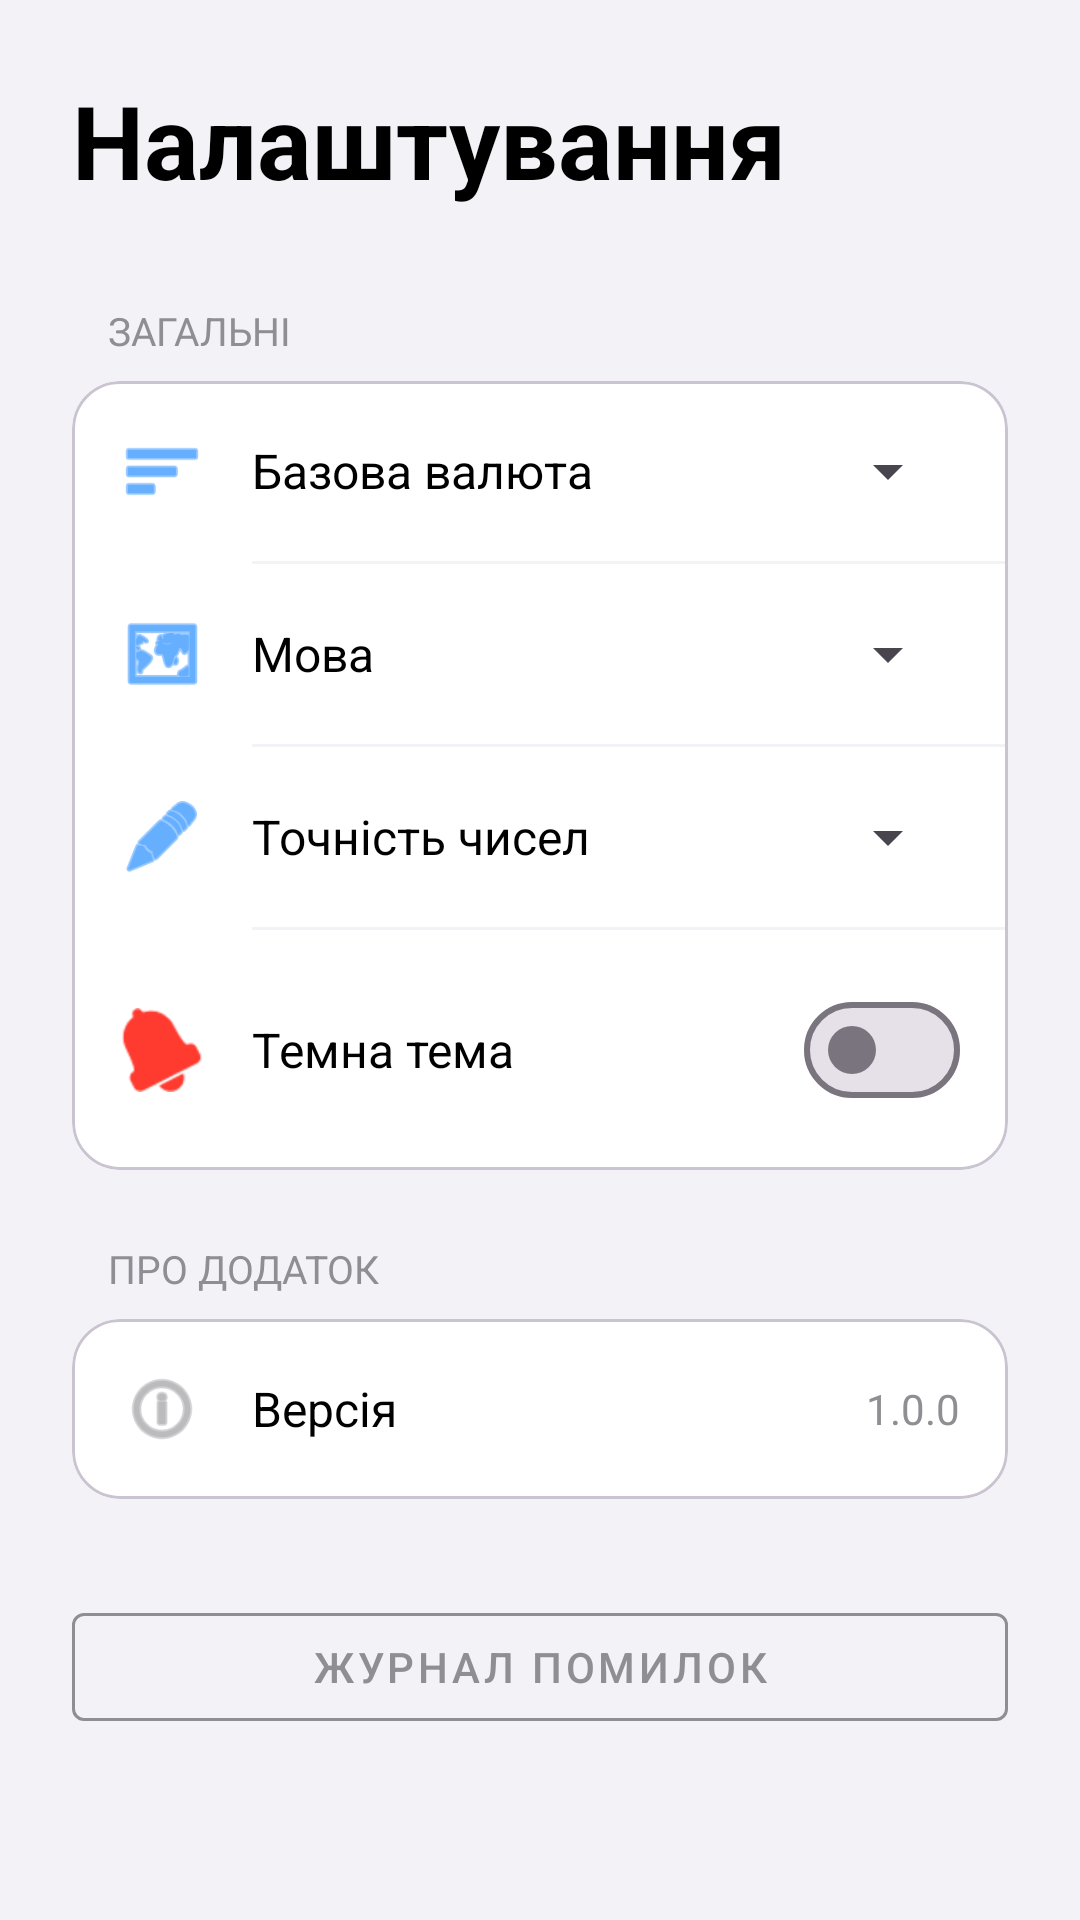

Locate icon controls on the screen. Image size 1080x1920, boxes as (x1, y1, x2, y2).
edit: (126, 801, 197, 872)
info details: (132, 1379, 192, 1439)
mapmode: (127, 623, 198, 685)
popup reminder: (122, 1008, 202, 1092)
sort by size: (126, 448, 198, 495)
